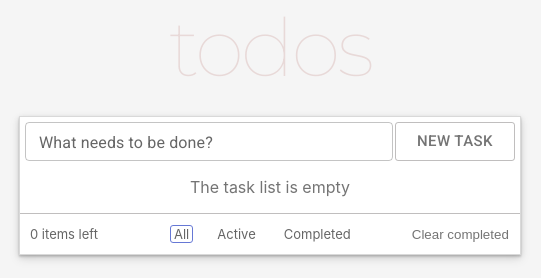
Test: Counter task › completed task counter should be decrement
Type "test" into the field with test id "input". click: (209, 142)
box: [25,122,393,161]
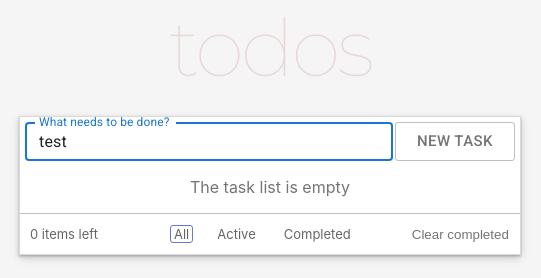
Click the button with test id "new-task". click: click(455, 142)
box: [395,122,515,161]
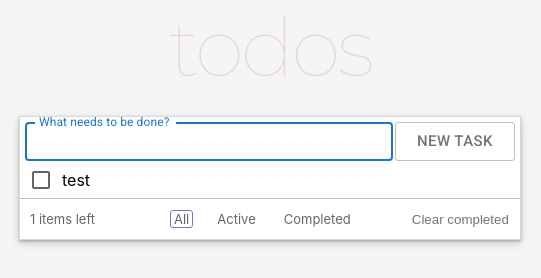
Expected: the text with test id "counter-task" shows "1", [30,211,35,227]
Click the checkbox named "The task has changed". click: click(41, 180)
box: [29,168,53,192]
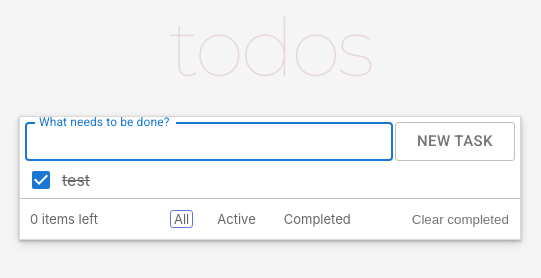
Expected: the text with test id "counter-task" shows "0", [30,211,38,227]
